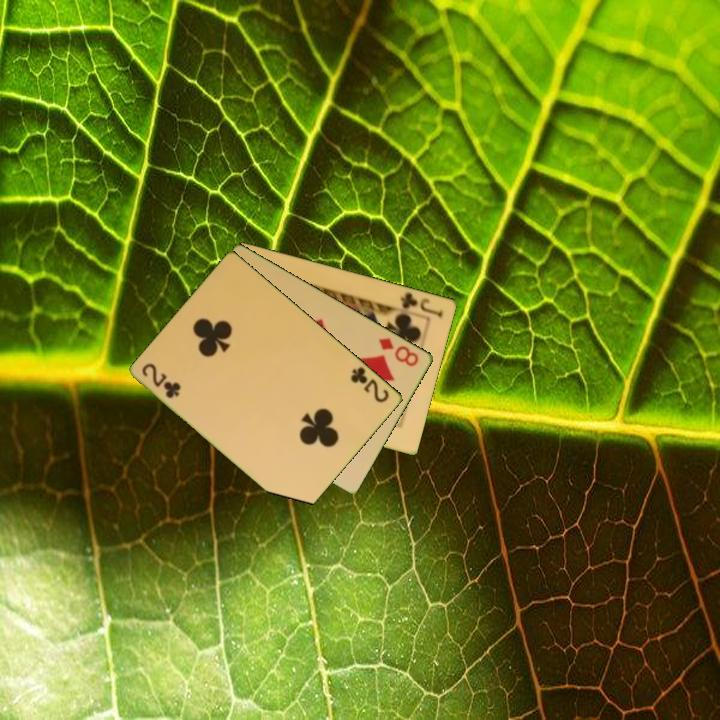2c: (347, 363, 392, 406), (139, 359, 184, 401)
8d: (375, 334, 422, 369)
Jc: (397, 289, 446, 320)
